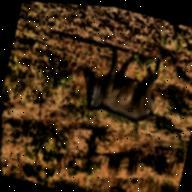boar: (70, 35, 192, 149)
